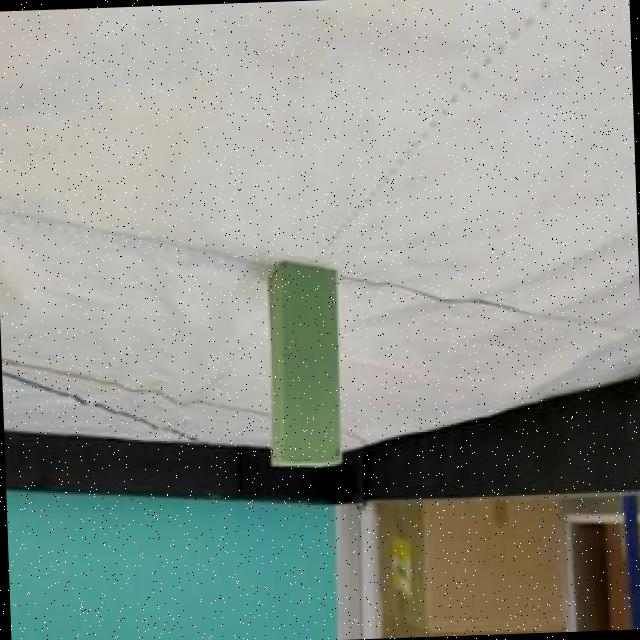greenbox: (261, 260, 346, 473)
